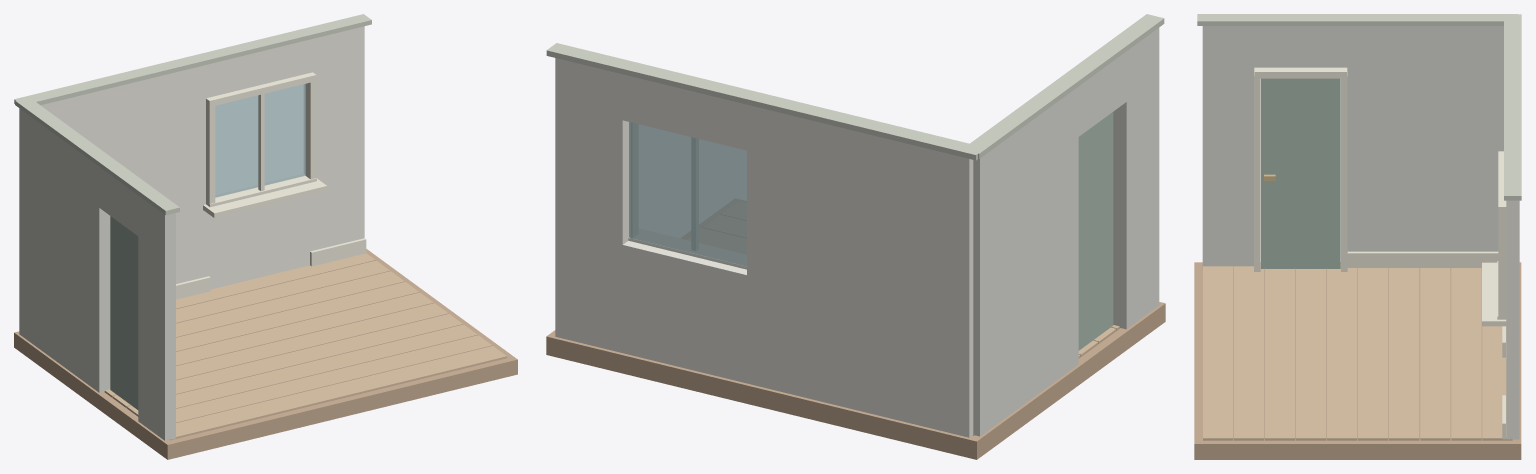
The model's file is habitacion_generica.glb.
The picture shows the model from 3 angles, left to right: view 1: azimuth 30°, elevation 25°; view 2: azimuth 150°, elevation 25°; view 3: azimuth 270°, elevation 25°; orthographic projection. The views are drawn at different scales.
Parts seen in each view (by area): view 1: muro_izquierdo_fondo, muro_fondo_izquierdo, muro_fondo_derecho, base_suelo, muro_izquierdo_frente, ventana, muro_bajo_ventana, tabla_suelo_10, puerta, tabla_suelo_9, canto_superior_fondo, tabla_suelo_8 (+18 smaller); view 2: muro_fondo_izquierdo, muro_izquierdo_fondo, muro_fondo_derecho, muro_bajo_ventana, ventana, base_suelo, muro_izquierdo_frente, puerta, canto_superior_fondo, muro_sobre_ventana, canto_superior_izquierdo, muro_sobre_puerta (+4 smaller); view 3: muro_izquierdo_fondo, puerta, muro_izquierdo_frente, base_suelo, tabla_suelo_10, tabla_suelo_9, tabla_suelo_2, tabla_suelo_3, tabla_suelo_4, tabla_suelo_5, tabla_suelo_7, tabla_suelo_8 (+13 smaller).
Boxes of the visible parts, x1,y1,x2,y2 form: muro_izquierdo_fondo: (19, 108, 110, 392); muro_fondo_izquierdo: (41, 64, 208, 283); muro_fondo_derecho: (304, 26, 364, 251); base_suelo: (14, 249, 517, 459); muro_izquierdo_frente: (138, 195, 175, 440); ventana: (215, 84, 305, 197); muro_bajo_ventana: (209, 174, 309, 289); tabla_suelo_10: (170, 346, 506, 440); puerta: (110, 216, 138, 409); tabla_suelo_9: (176, 335, 491, 422); canto_superior_fondo: (14, 14, 371, 105); tabla_suelo_8: (127, 324, 476, 416); muro_fondo_izquierdo: (747, 104, 973, 437); muro_izquierdo_fondo: (973, 87, 1078, 436); muro_fondo_derecho: (555, 58, 628, 352); muro_bajo_ventana: (622, 241, 746, 383); ventana: (630, 122, 746, 267); base_suelo: (546, 199, 1165, 459); muro_izquierdo_frente: (1113, 28, 1159, 329); puerta: (1078, 112, 1113, 350); canto_superior_fondo: (546, 43, 985, 160); muro_sobre_ventana: (622, 74, 746, 150); canto_superior_izquierdo: (962, 14, 1164, 158); muro_sobre_puerta: (1078, 51, 1126, 136); muro_izquierdo_fondo: (1342, 26, 1503, 251); puerta: (1261, 78, 1340, 268); muro_izquierdo_frente: (1202, 26, 1259, 267); base_suelo: (1194, 262, 1521, 459); tabla_suelo_10: (1203, 266, 1233, 440); tabla_suelo_9: (1234, 264, 1264, 440); tabla_suelo_2: (1451, 268, 1481, 440); tabla_suelo_3: (1420, 268, 1450, 440); tabla_suelo_4: (1389, 268, 1419, 440); tabla_suelo_5: (1358, 268, 1388, 440); tabla_suelo_7: (1296, 269, 1326, 440); tabla_suelo_8: (1265, 269, 1295, 440).
Bounding box in the file's own units: 4.17 × 2.81 × 3.17.
